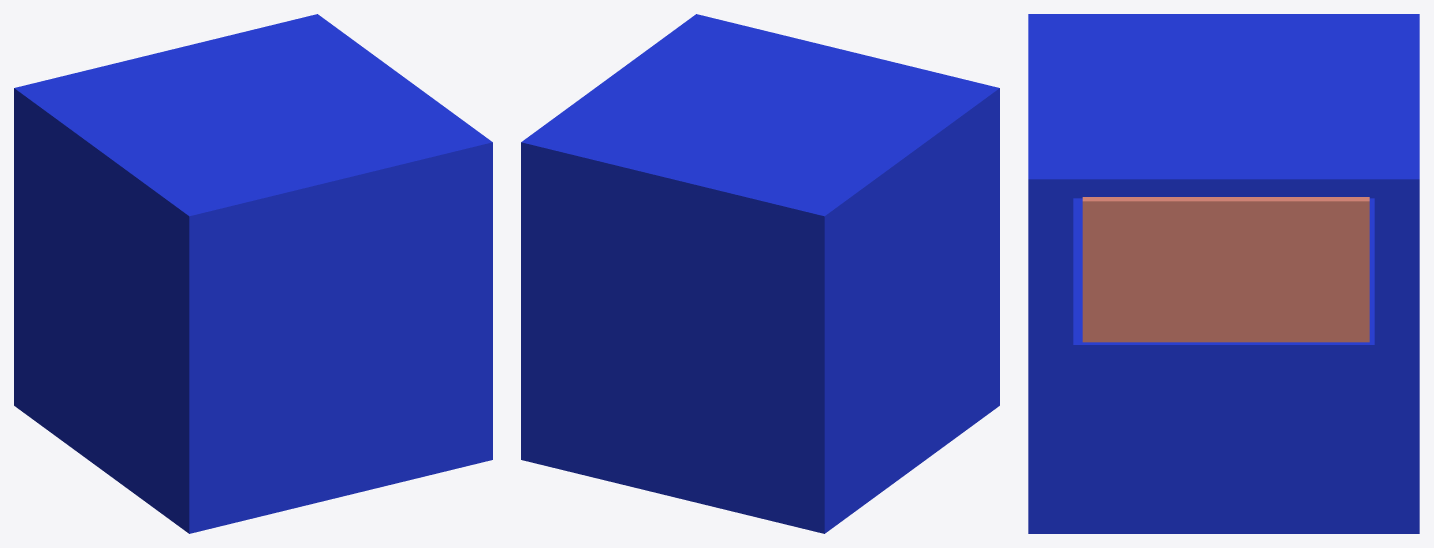
3 renders of one model, left to right at view 1: azimuth 30°, elevation 25°; view 2: azimuth 150°, elevation 25°; view 3: azimuth 270°, elevation 25°, orthographic. The views are drawn at different scales.
Parts seen in each view (by area): view 1: LEMARI; view 2: LEMARI; view 3: LEMARI, laci.
Part boxes in pixels (box(x1,y1,x2,y2)): LEMARI: box(14, 14, 492, 533); LEMARI: box(521, 14, 999, 533); LEMARI: box(1028, 14, 1419, 533); laci: box(1082, 197, 1369, 342).
Size of what is drawn, in the model's own units: 0.9305 by 0.9245 by 0.9245.
